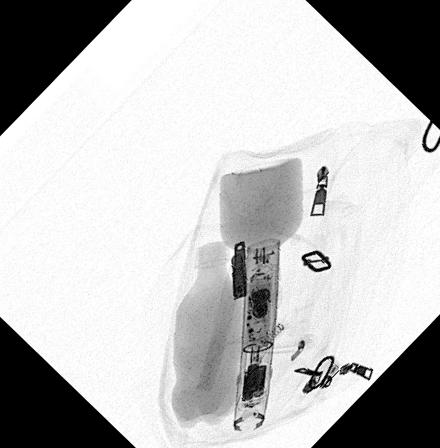Baton: (230, 236, 279, 433)
